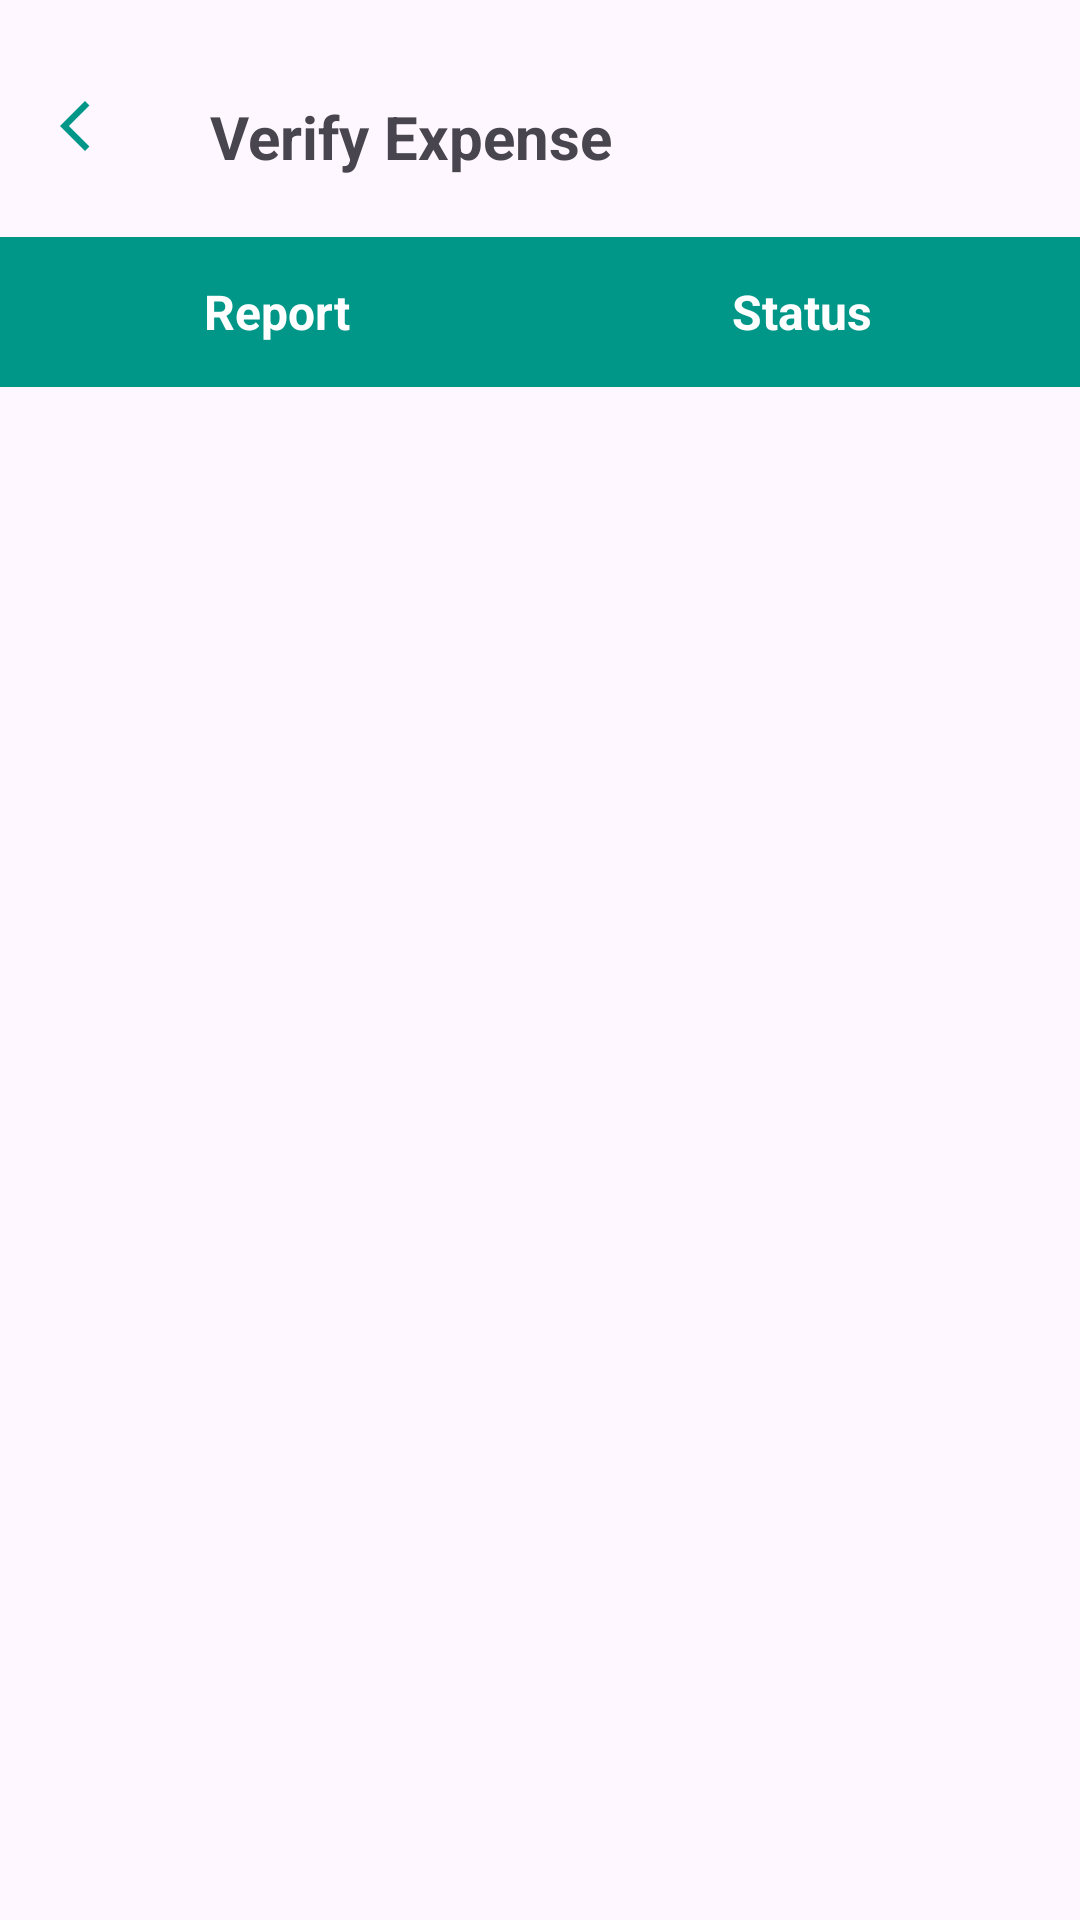

Named icons in this screenshot (1080 × 1920) and their centers, point (x, y):
back: point (75, 126)
